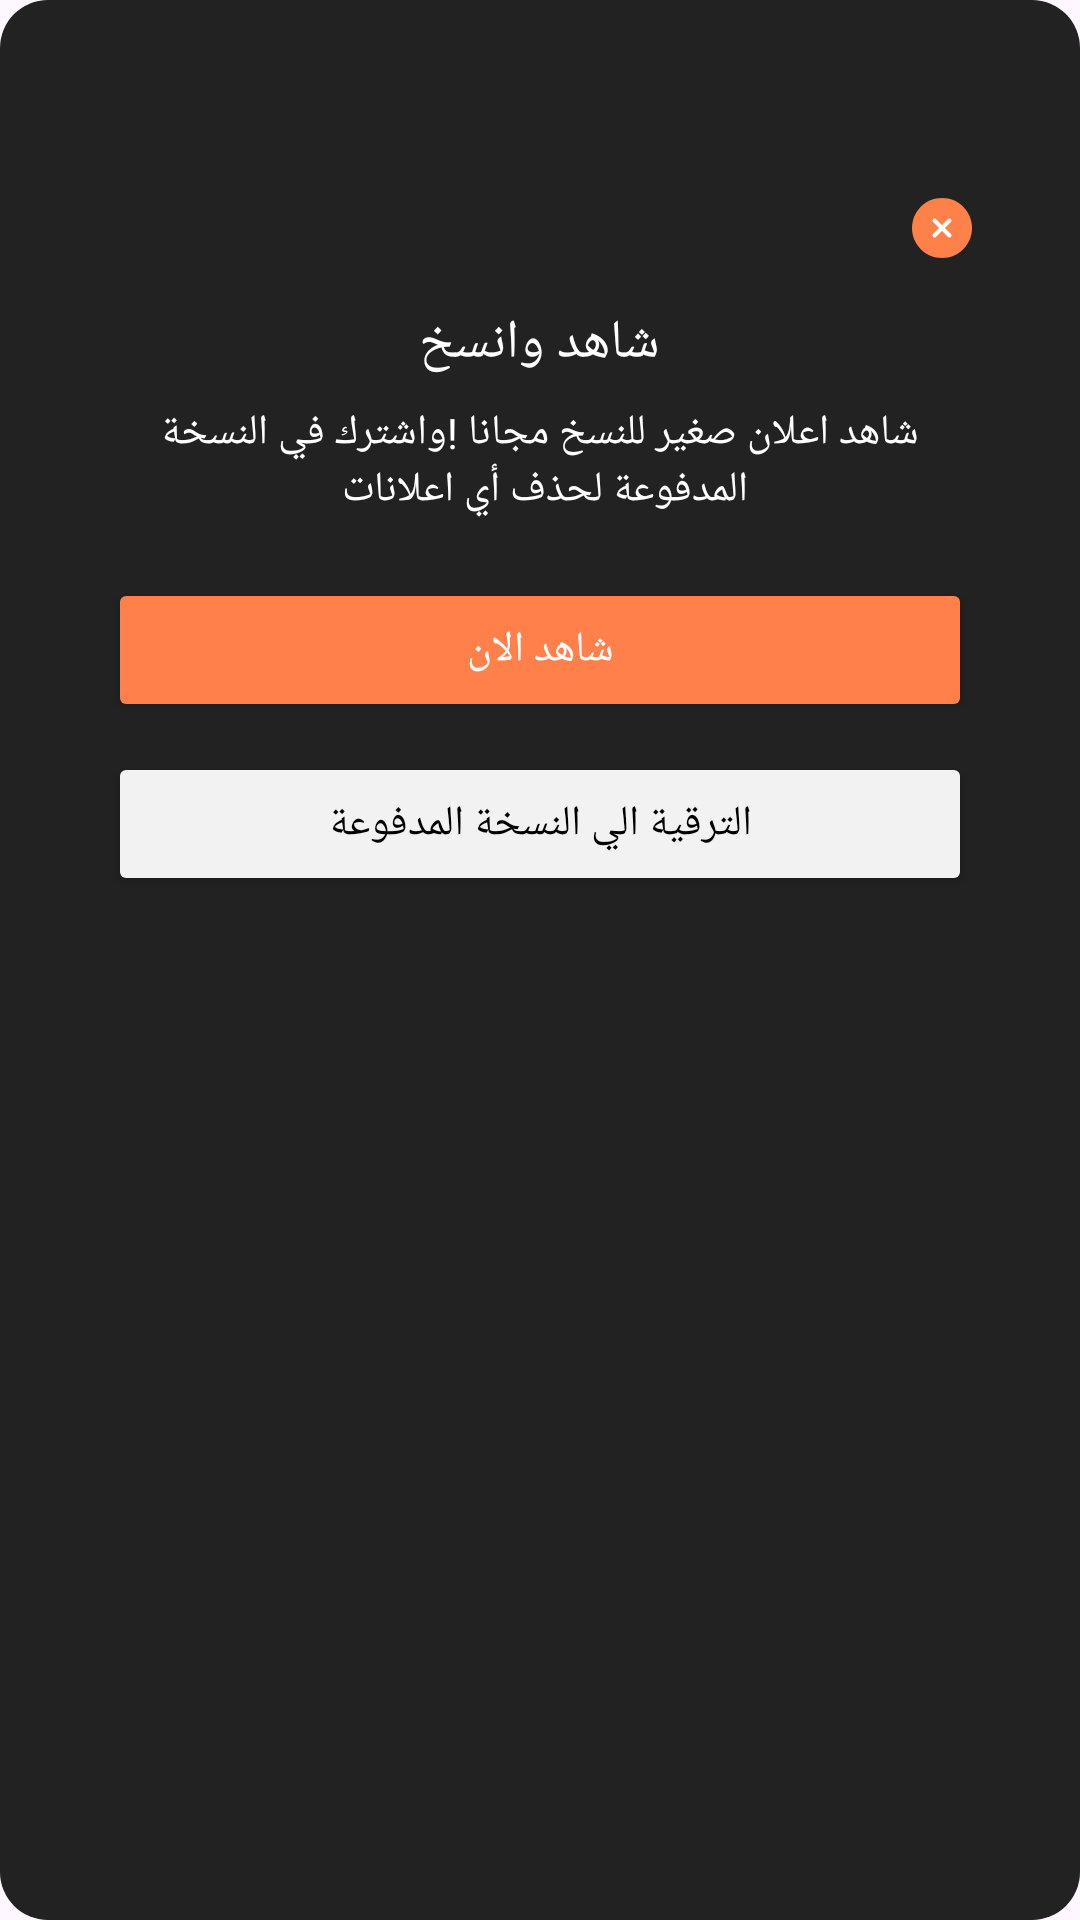

Where icons sit on this 1080px×1920px app screen, as BBox(x1, y1, x2, y2):
closealert: BBox(912, 198, 972, 258)
